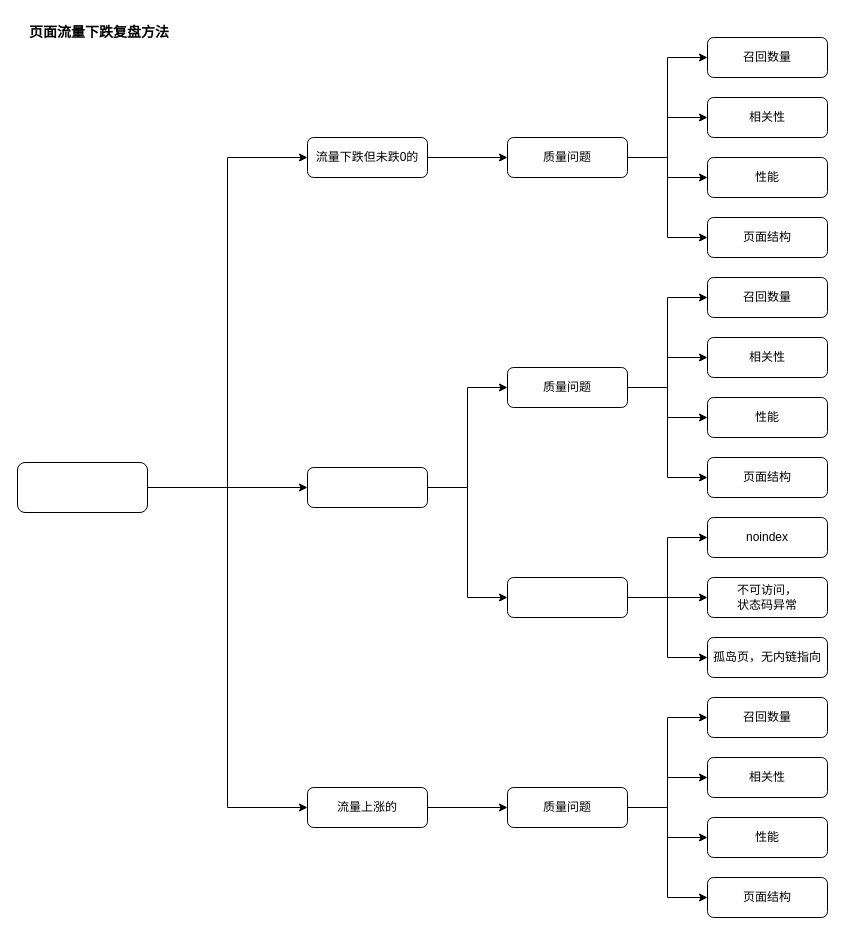
The diagram is 845 pixels wide and 935 high, and some of its shapes have lost their labels. The shapes that lost their labels are listed below. From the top down, each one's centre as x and y in pixels, then its label:
At (x=82, y=487): "在每个URL上 对比上个周期与 当前周期的流量".
At (x=367, y=487): "流量跌0的".
At (x=567, y=597): "非质量问题".
